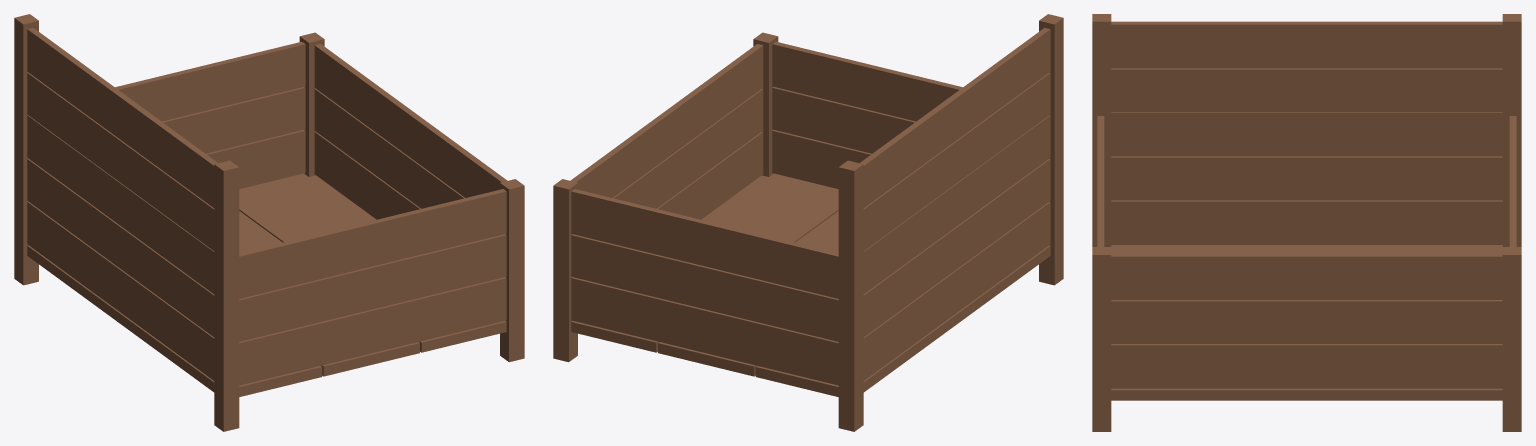
The model's file is Wood_Box.fbx.
3 views of the same model, side by side, from view 1: azimuth 30°, elevation 25°; view 2: azimuth 150°, elevation 25°; view 3: azimuth 270°, elevation 25° (orthographic). The views are drawn at different scales.
Visible parts, largest first — view 1: Wood_Box; view 2: Wood_Box; view 3: Wood_Box.
Part boxes in pixels (x1=…): Wood_Box: x1=14, y1=14, x2=524, y2=431; Wood_Box: x1=553, y1=14, x2=1063, y2=431; Wood_Box: x1=1092, y1=14, x2=1521, y2=431.
Size of the model in its own units: 55.13 by 45.65 by 66.39.
